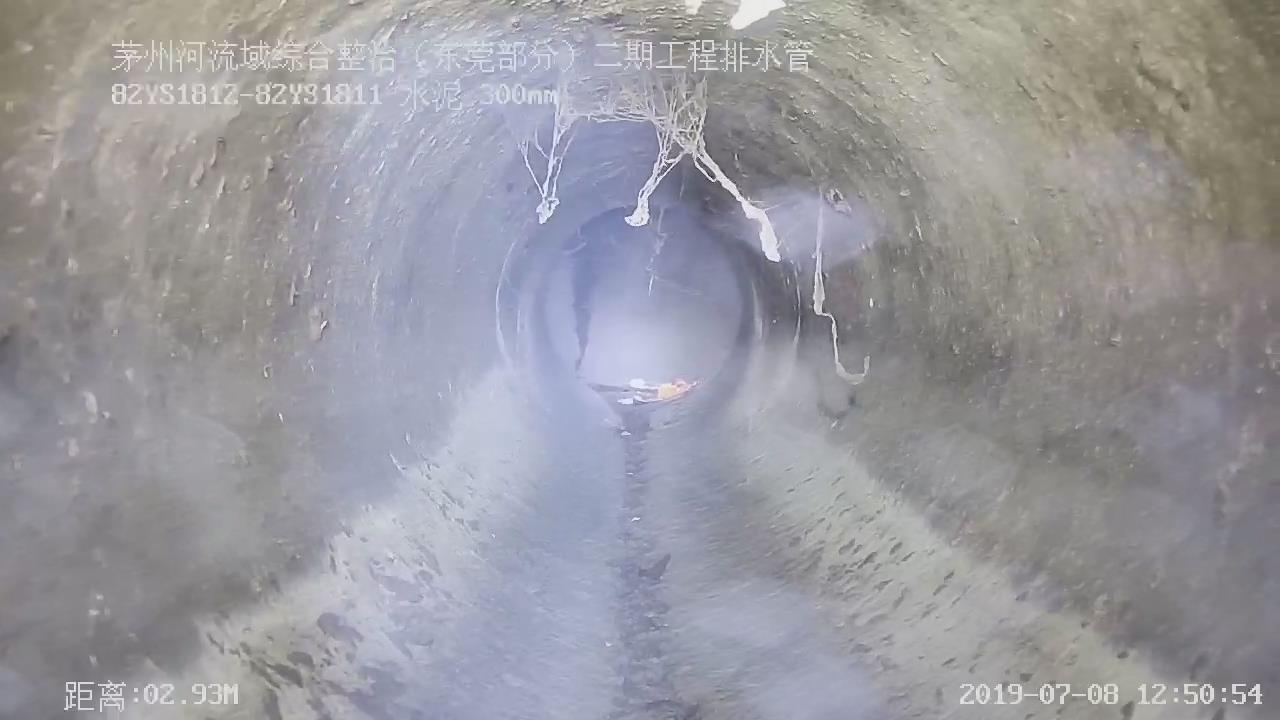SG: (524, 58, 781, 262), (811, 204, 868, 384)
